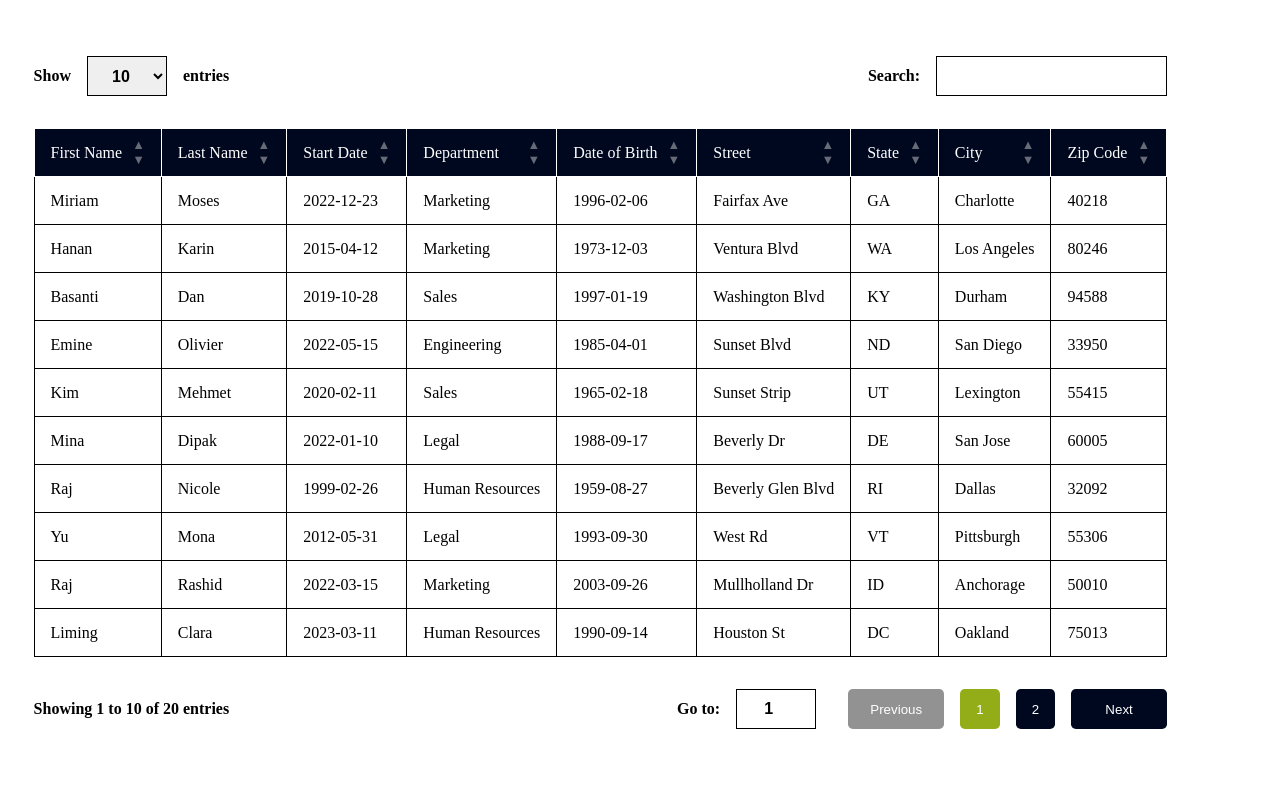
Test: Given I want to filter rows based on input search value › When I'm writing 'Sales' in input, then remove it › Then number of displayed rows should be equal to mockRows length
The image size is (1280, 800).
In the field with test id "search-input": (1052, 76) [936,56,1167,96], type "Sales"
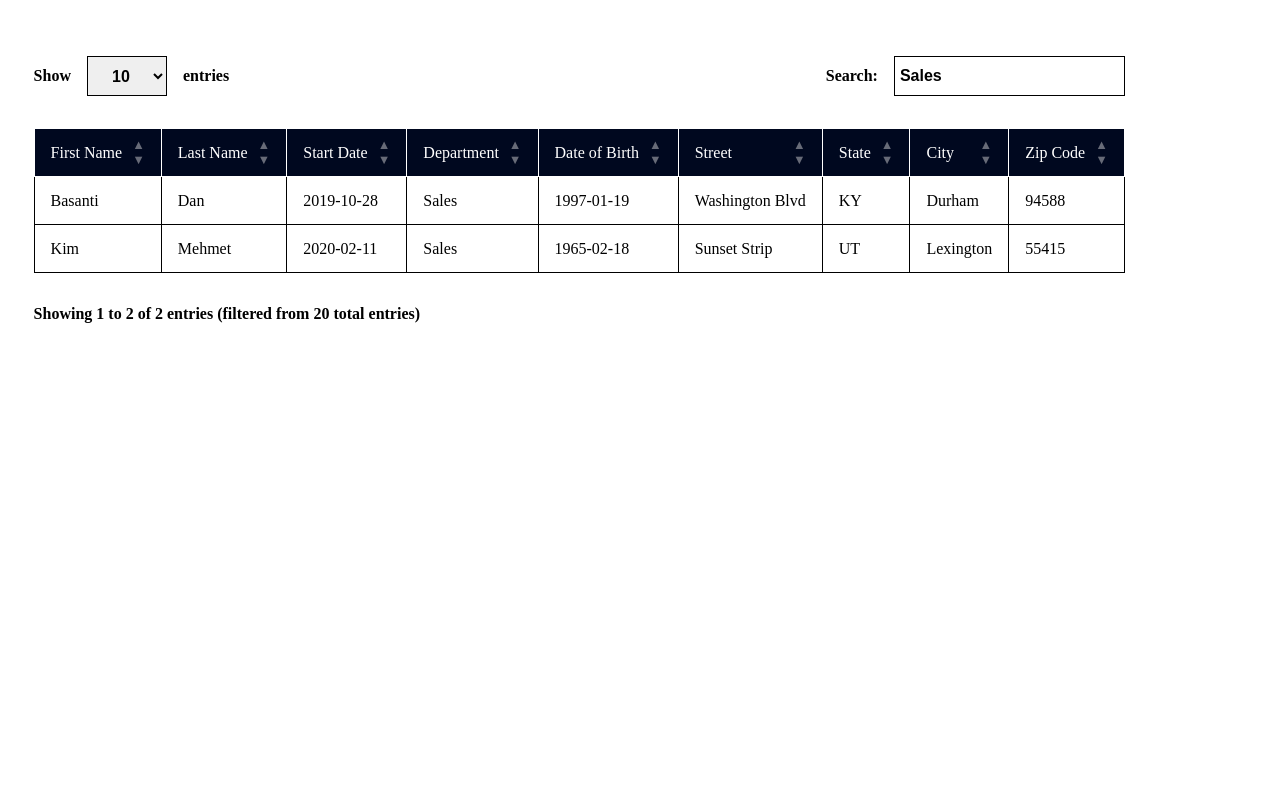
Clear the field with test id "search-input": (1009, 76) [894,56,1125,96]
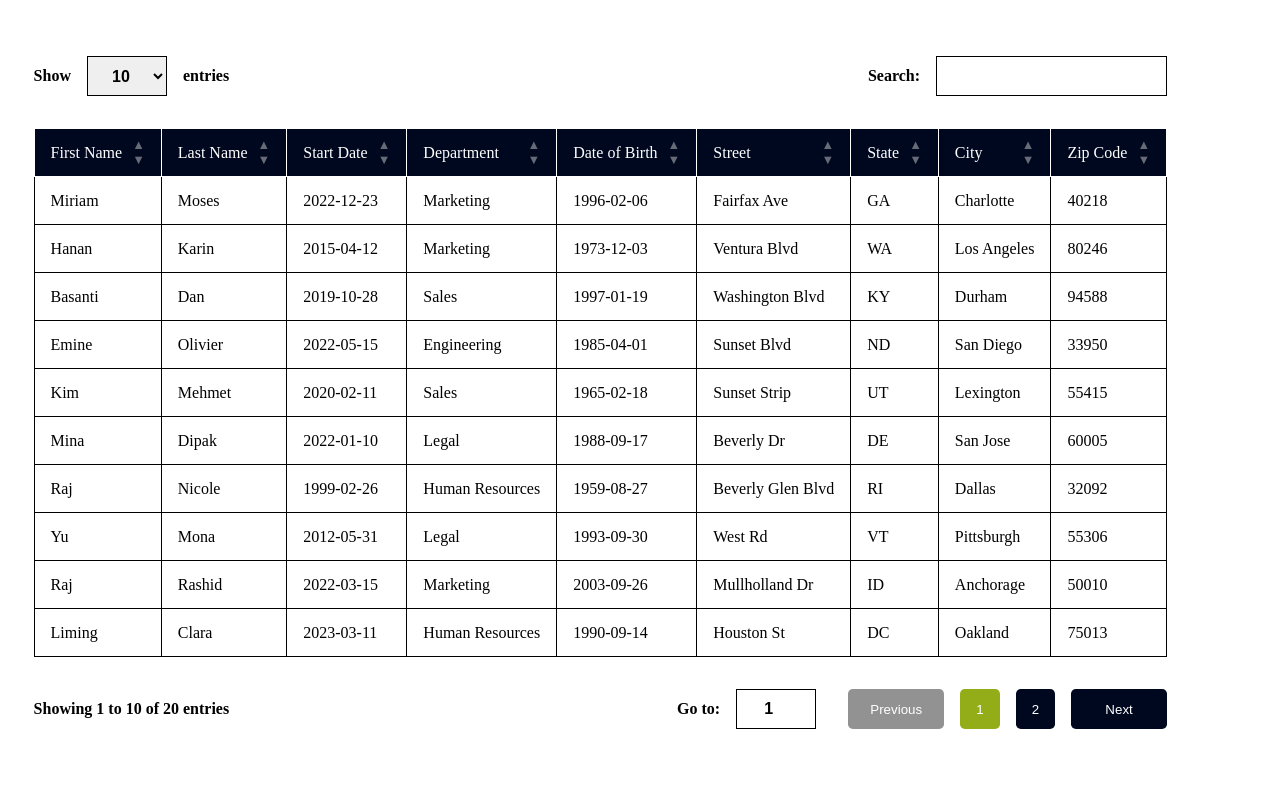
expect the number of rows with test id "tbody-row" is 10: met
